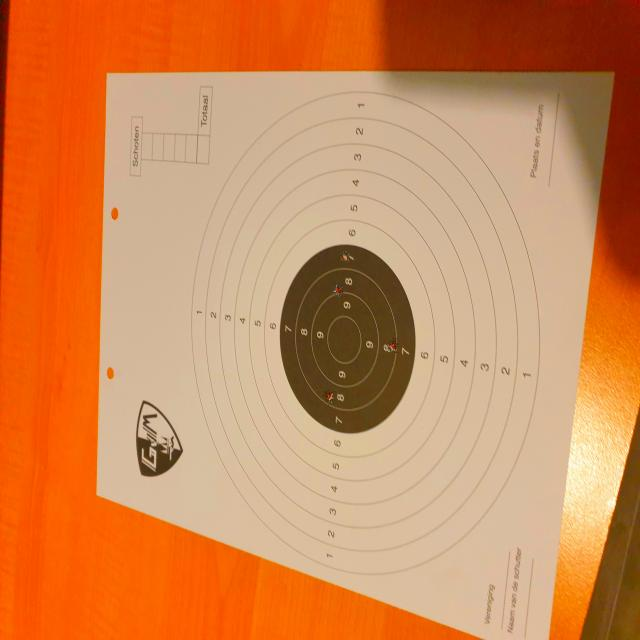7: (340, 250, 350, 262)
8: (386, 338, 400, 354), (322, 388, 334, 406)
9: (333, 282, 344, 299)
Target: (191, 88, 540, 577)
black_contour: (280, 244, 416, 435)
